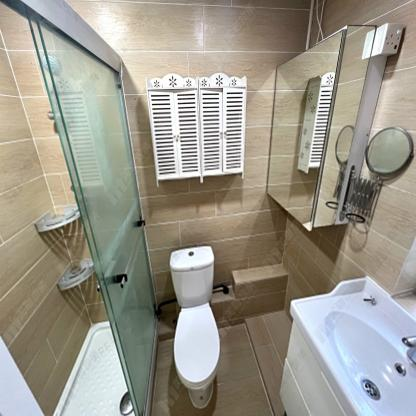Toilet: (169, 246, 220, 407)
Toilet Sink: (290, 292, 416, 416)
